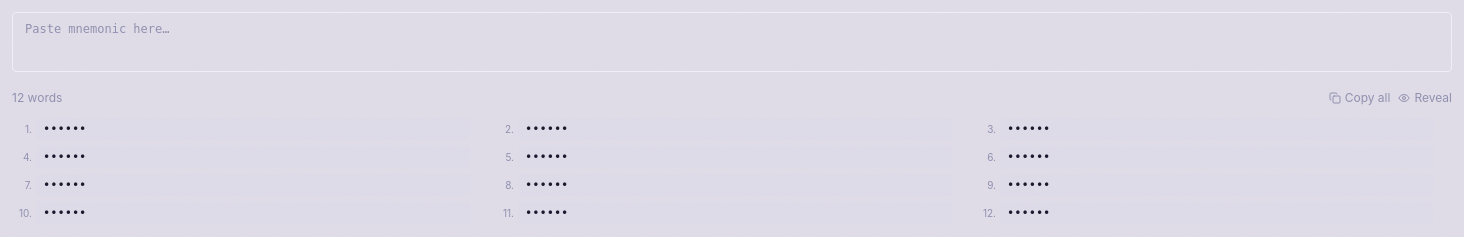
Test case: MnemonicGrid › clicking a word starts editing
Step 1. Click the 1st button "••••••" → (65, 129), box [36,118,470,140]
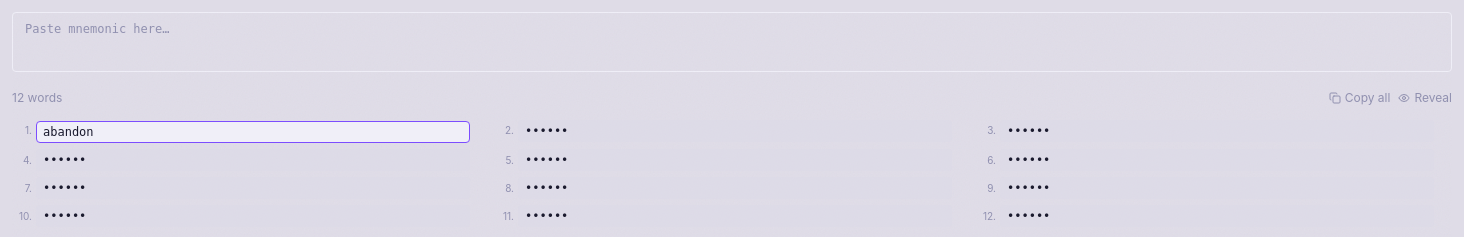
Now the field showing "abandon" is shown, box [36,121,470,143]
